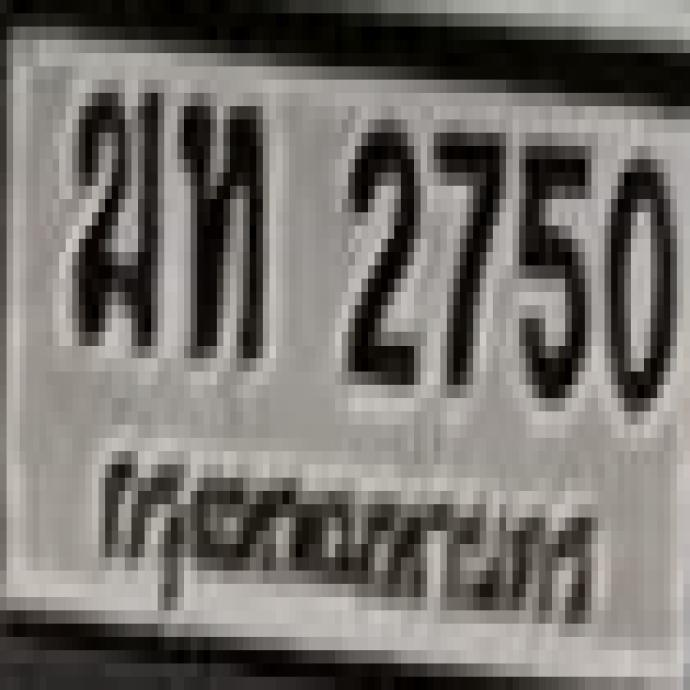0: (600, 144, 669, 398)
2: (342, 109, 414, 373)
5: (514, 131, 585, 392)
7: (429, 119, 499, 382)
A06: (68, 78, 157, 337)
A23: (177, 88, 260, 353)
BKK: (86, 426, 607, 647)
